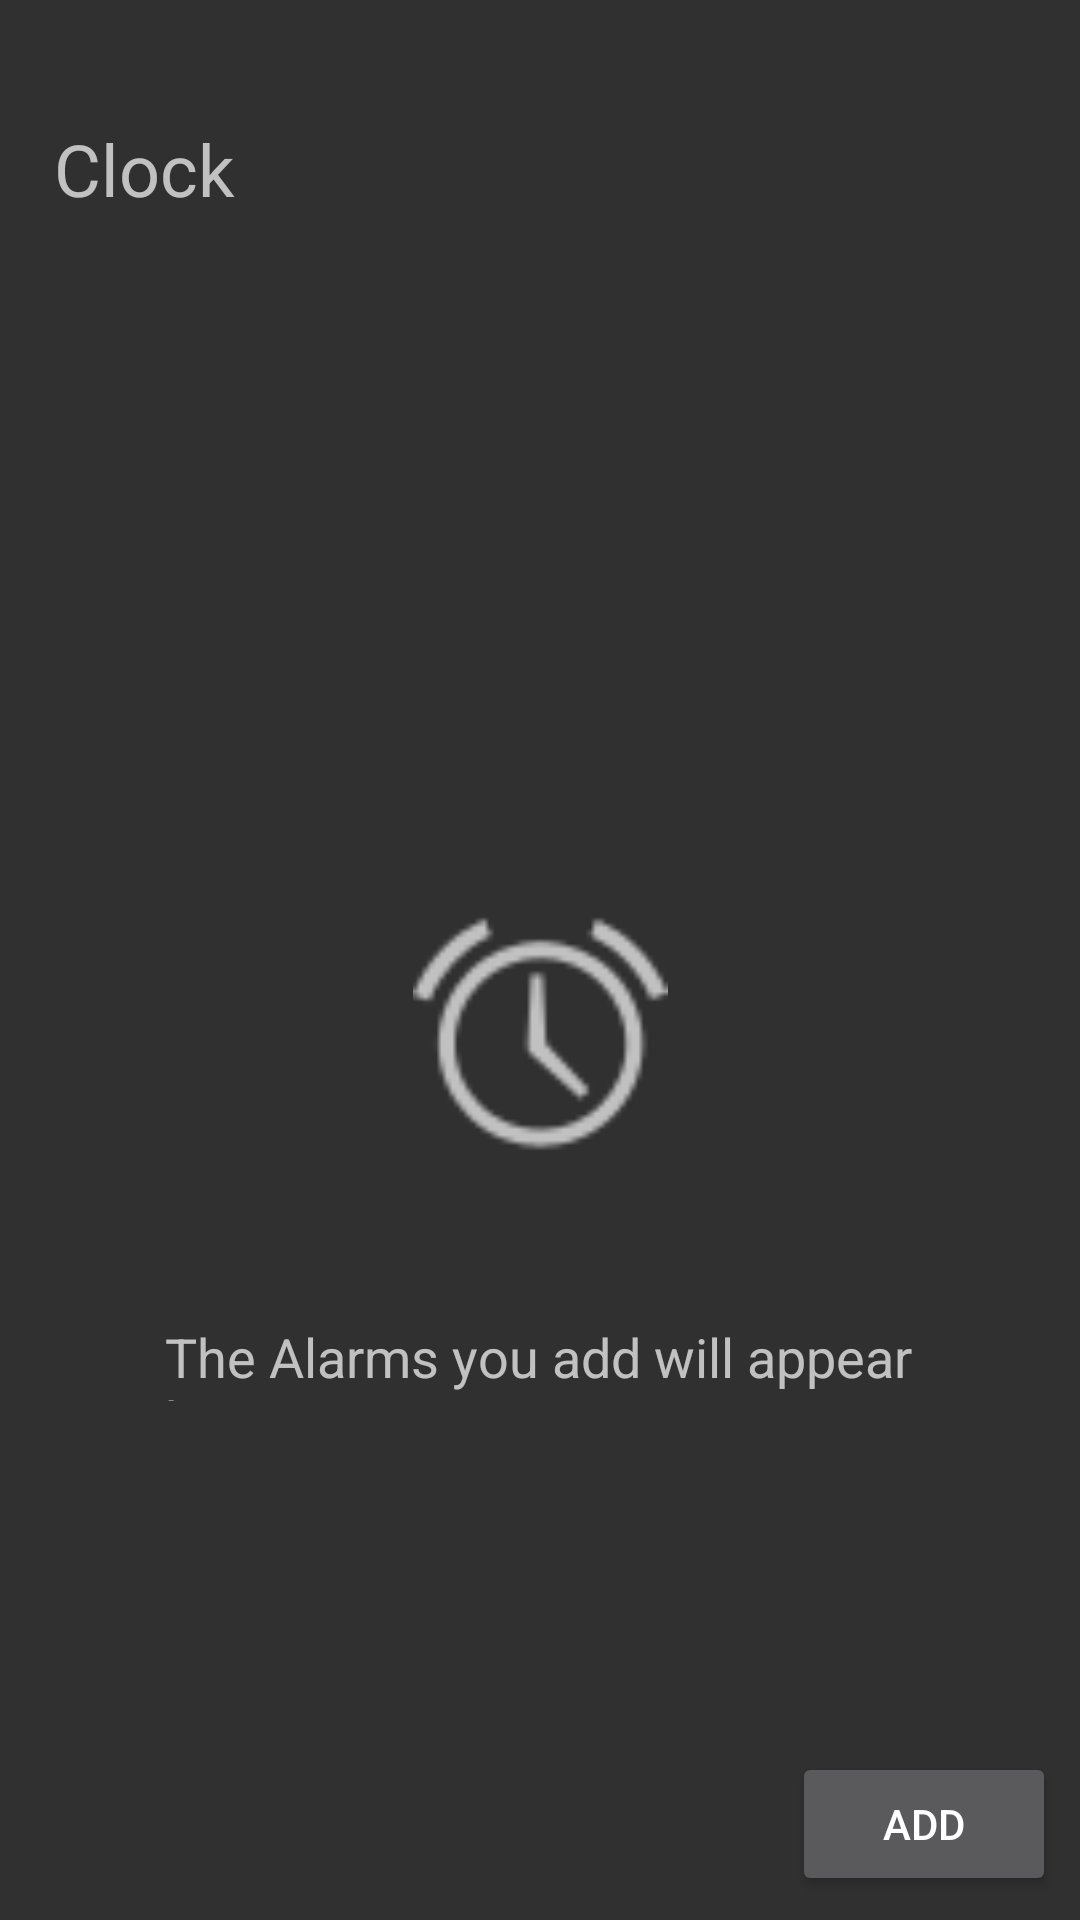

Point at icon controls on the screen. Image size 1080*1920, points as point (x, y).
lock idle alarm: point (540, 1033)
